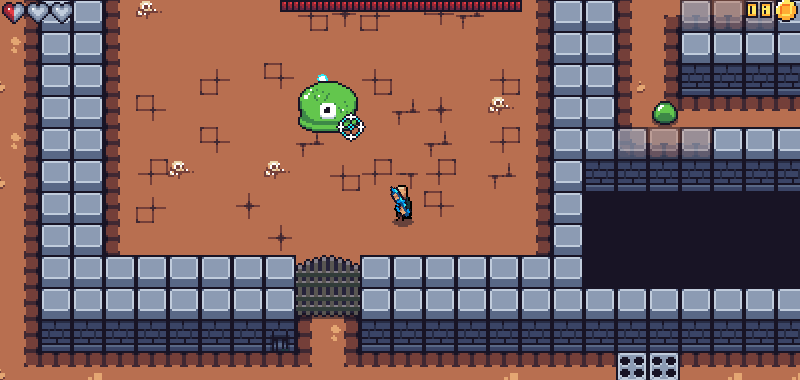enemy_slug: (648, 96, 682, 129)
enemy_slug_boss: (287, 74, 367, 137)
trap_door: (290, 253, 366, 319)
trap_off: (615, 352, 681, 380)
